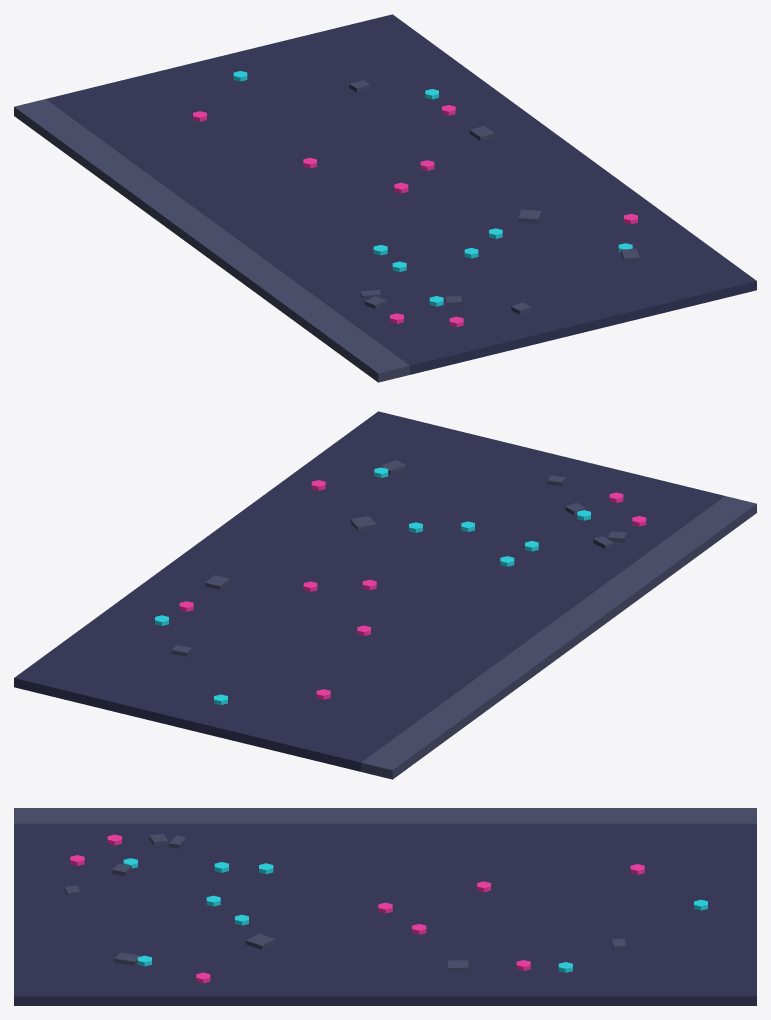
Rendered from env_r8_verge.glb.
3 renders of one model, top to bottom at view 1: azimuth 30°, elevation 25°; view 2: azimuth 150°, elevation 25°; view 3: azimuth 270°, elevation 25°, orthographic.
Visible parts, largest first — view 1: env_r8_verge; view 2: env_r8_verge; view 3: env_r8_verge.
Part boxes in pixels (x1,y1,x2,y2): env_r8_verge: (14, 14, 756, 382); env_r8_verge: (14, 411, 756, 779); env_r8_verge: (14, 808, 756, 1005).
Size of the model in its own units: 6 by 0.2 by 10.
Materials: 1 (1 with a texture image).
